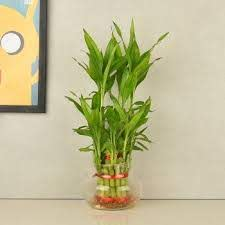bamboo: (59, 13, 170, 157)
